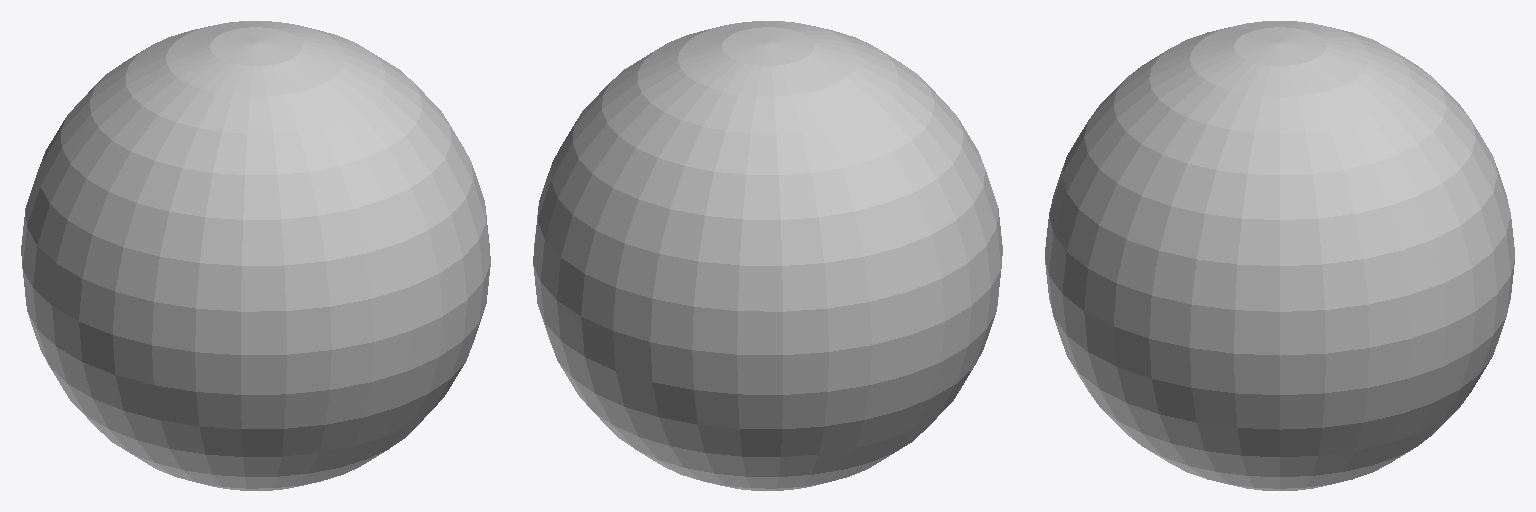
Rendered from bullet.obj.
3 renders of one model, left to right at view 1: azimuth 30°, elevation 25°; view 2: azimuth 150°, elevation 25°; view 3: azimuth 270°, elevation 25°, orthographic.
Visible parts, largest first — view 1: Sphere; view 2: Sphere; view 3: Sphere.
Boxes of the visible parts, <box> form: Sphere: <box>21,21,490,490</box>; Sphere: <box>533,21,1002,490</box>; Sphere: <box>1045,21,1514,490</box>.
Size of the model in its own units: 0.1593 by 0.1593 by 0.1593.